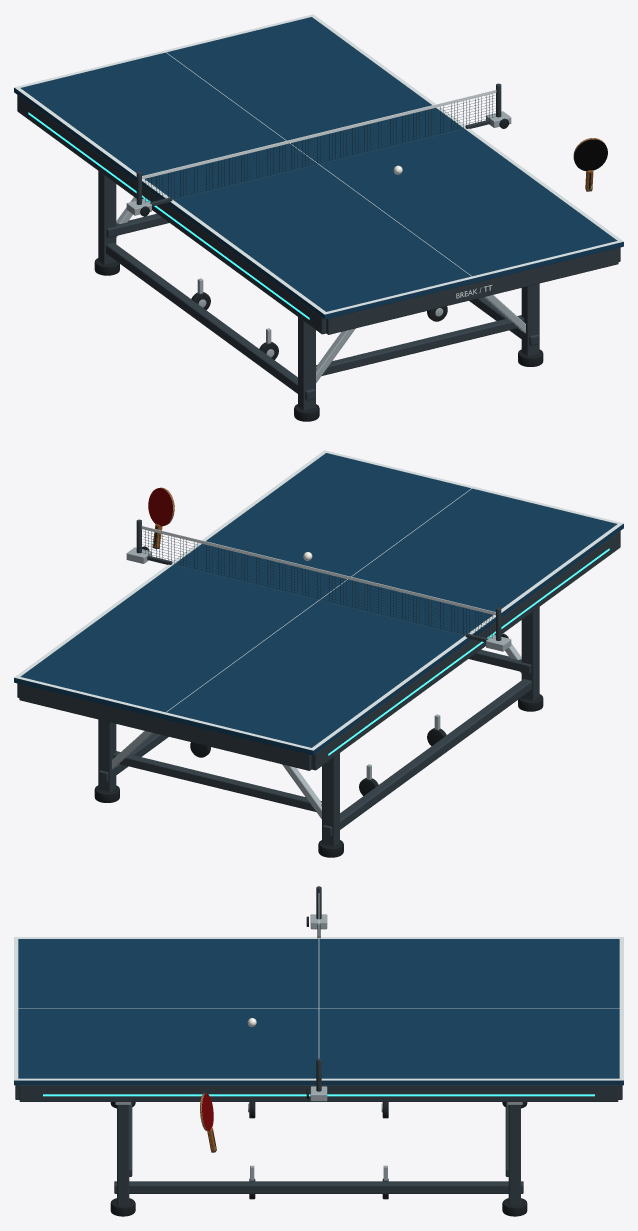
The model's file is table-tennis-equipment.glb.
3 views of the same model, one above another, from view 1: azimuth 30°, elevation 25°; view 2: azimuth 150°, elevation 25°; view 3: azimuth 270°, elevation 25° (orthographic).
Parts seen in each view (by area): view 1: 25mm composite tabletop, Table_Graphite powder coat.010, Table_Warm ivory polymer.010, Net_Woven charcoal net.006, Table_Black traction rubber.008, Table_Satin anodized aluminum.010, White net top tape, Front rubber, Table_Cyan optical light.008, Net_Graphite powder coat.010; view 2: 25mm composite tabletop, Table_Graphite powder coat.010, Table_Warm ivory polymer.010, Net_Woven charcoal net.006, Table_Black traction rubber.008, White net top tape, Table_Satin anodized aluminum.010, Table_Cyan optical light.008, Back rubber, Net_Graphite powder coat.010, Net_Satin anodized aluminum.010; view 3: 25mm composite tabletop, Table_Graphite powder coat.010, Table_Warm ivory polymer.010, Table_Cyan optical light.008, Table_Black traction rubber.008, Net_Satin anodized aluminum.010, Net_Graphite powder coat.010.
Part boxes in pixels (bbox=[...]): 25mm composite tabletop: bbox=[14, 17, 623, 319]; Table_Graphite powder coat.010: bbox=[17, 95, 620, 410]; Table_Warm ivory polymer.010: bbox=[14, 14, 623, 314]; Net_Woven charcoal net.006: bbox=[142, 94, 495, 202]; Table_Black traction rubber.008: bbox=[94, 258, 543, 421]; Table_Satin anodized aluminum.010: bbox=[116, 197, 525, 382]; White net top tape: bbox=[142, 90, 496, 179]; Front rubber: bbox=[574, 139, 607, 171]; Table_Cyan optical light.008: bbox=[28, 112, 309, 319]; Net_Graphite powder coat.010: bbox=[136, 83, 501, 206]; 25mm composite tabletop: bbox=[14, 453, 623, 755]; Table_Graphite powder coat.010: bbox=[17, 531, 620, 846]; Table_Warm ivory polymer.010: bbox=[14, 450, 623, 750]; Net_Woven charcoal net.006: bbox=[142, 530, 495, 638]; Table_Black traction rubber.008: bbox=[94, 694, 543, 857]; White net top tape: bbox=[141, 526, 495, 615]; Table_Satin anodized aluminum.010: bbox=[112, 633, 521, 818]; Table_Cyan optical light.008: bbox=[328, 548, 609, 755]; Back rubber: bbox=[148, 488, 172, 526]; Net_Graphite powder coat.010: bbox=[136, 519, 501, 642]; Net_Satin anodized aluminum.010: bbox=[126, 547, 511, 651]; 25mm composite tabletop: bbox=[14, 939, 623, 1085]; Table_Graphite powder coat.010: bbox=[15, 1085, 622, 1205]; Table_Warm ivory polymer.010: bbox=[14, 937, 623, 1080]; Table_Cyan optical light.008: bbox=[43, 1094, 594, 1096]; Table_Black traction rubber.008: bbox=[110, 1102, 527, 1216]; Net_Satin anodized aluminum.010: bbox=[310, 914, 327, 1101]; Net_Graphite powder coat.010: bbox=[316, 886, 321, 1091].
Bounding box in the file's own units: 2.13 × 0.9145 × 2.74.
Materials: 15 (5 with a texture image).
